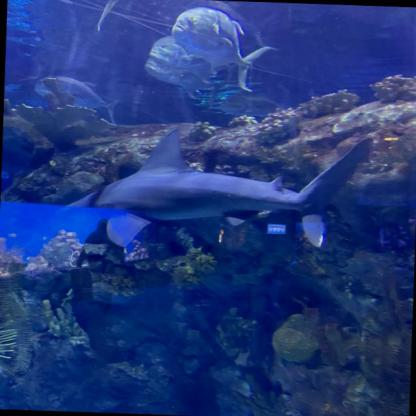fish: (171, 6, 272, 92), (17, 0, 155, 33), (36, 75, 119, 125), (143, 35, 220, 85), (1, 166, 9, 180)
shark: (54, 122, 371, 250)
